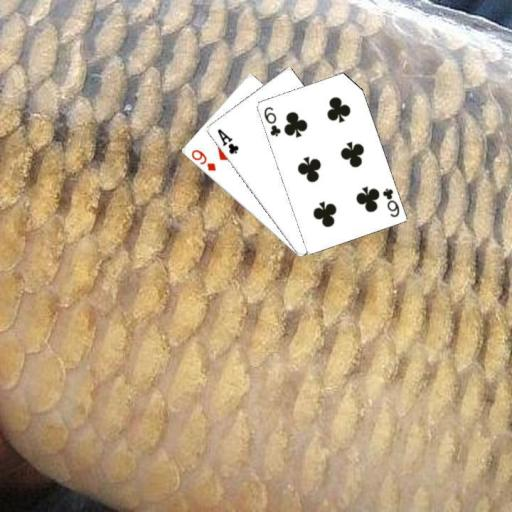6C: (261, 103, 283, 138), (379, 185, 400, 218)
9D: (188, 146, 217, 173)
AC: (214, 125, 240, 156)
